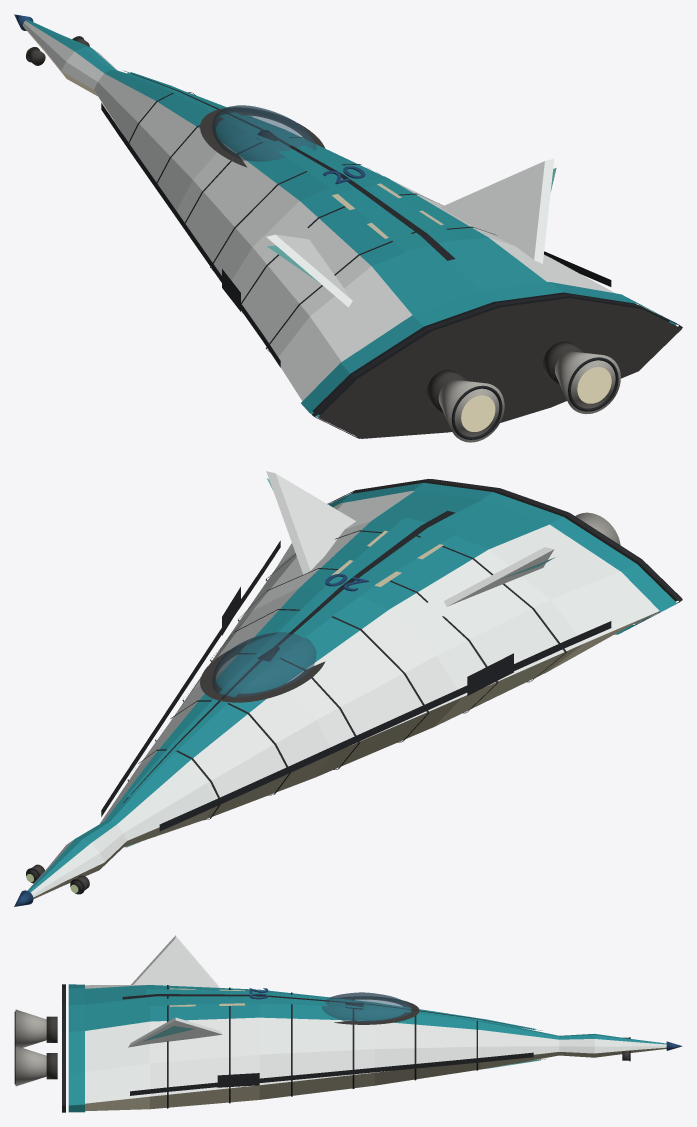
Rendered from Ship_PyramidLifter_855868.glb.
The picture shows the model from 3 angles, top to bottom: view 1: azimuth 30°, elevation 25°; view 2: azimuth 150°, elevation 25°; view 3: azimuth 270°, elevation 25°; orthographic projection. The views are drawn at different scales.
Visible parts, largest first — view 1: Fuselage_MainPyramidalLiftingBody, EngineDeck_AftFacetedDarkMountPlate, PaintDorsalSplit_PrimaryCentralArmor, TailFin_Right_ShortCantedStabilizer, EngineDeck_AftOuterArmorCollar, CanopyGlass_LowInsetSmokedDome, Nose_FacetedRamNeedle, EngineEmitter, EngineBell_LeftWide_BurnishedNozzle, EngineBell_RightWide_BurnishedNozzle, TailFin_Left_ShortCantedStabilizer, CanopyFrame_LowInsetArmoredOvalRim (+5 smaller); view 2: Fuselage_MainPyramidalLiftingBody, PaintDorsalSplit_PrimaryCentralArmor, CanopyGlass_LowInsetSmokedDome, EngineDeck_AftOuterArmorCollar, TailFin_Right_ShortCantedStabilizer, Nose_FacetedRamNeedle, SideChinePanel_Left_LongDarkArmorJoint, CanopyFrame_LowInsetArmoredOvalRim, HullLongitudinalSeam_DorsalRidgeDarkLine, TailFin_Left_ShortCantedStabilizer, SideChinePanel_Right_LongDarkArmorJoint, EngineDeck_AftDarkCompressionSeal (+2 smaller); view 3: Fuselage_MainPyramidalLiftingBody, PaintDorsalSplit_PrimaryCentralArmor, TailFin_Left_ShortCantedStabilizer, EngineDeck_AftOuterArmorCollar, CanopyGlass_LowInsetSmokedDome, SideChinePanel_Right_LongDarkArmorJoint, Nose_FacetedRamNeedle, TailFin_Right_ShortCantedStabilizer, EngineBell_RightWide_BurnishedNozzle, EngineBell_LeftWide_BurnishedNozzle, HullLongitudinalSeam_DorsalRidgeDarkLine, CanopyFrame_LowInsetArmoredOvalRim (+4 smaller).
Part boxes in pixels (bbox=[...]): Fuselage_MainPyramidalLiftingBody: bbox=[94, 70, 669, 415]; EngineDeck_AftFacetedDarkMountPlate: bbox=[318, 298, 681, 438]; PaintDorsalSplit_PrimaryCentralArmor: bbox=[127, 72, 460, 251]; TailFin_Right_ShortCantedStabilizer: bbox=[440, 158, 554, 263]; EngineDeck_AftOuterArmorCollar: bbox=[301, 282, 676, 417]; CanopyGlass_LowInsetSmokedDome: bbox=[212, 105, 316, 161]; Nose_FacetedRamNeedle: bbox=[22, 20, 117, 95]; EngineEmitter: bbox=[461, 367, 611, 431]; EngineBell_LeftWide_BurnishedNozzle: bbox=[438, 380, 504, 442]; EngineBell_RightWide_BurnishedNozzle: bbox=[555, 351, 620, 414]; TailFin_Left_ShortCantedStabilizer: bbox=[266, 234, 352, 307]; CanopyFrame_LowInsetArmoredOvalRim: bbox=[200, 108, 325, 167]; Fuselage_MainPyramidalLiftingBody: bbox=[100, 491, 659, 847]; PaintDorsalSplit_PrimaryCentralArmor: bbox=[127, 517, 460, 796]; CanopyGlass_LowInsetSmokedDome: bbox=[212, 632, 316, 697]; EngineDeck_AftOuterArmorCollar: bbox=[329, 482, 676, 634]; TailFin_Right_ShortCantedStabilizer: bbox=[266, 471, 355, 574]; Nose_FacetedRamNeedle: bbox=[27, 821, 126, 899]; SideChinePanel_Left_LongDarkArmorJoint: bbox=[159, 621, 611, 831]; CanopyFrame_LowInsetArmoredOvalRim: bbox=[200, 643, 325, 702]; HullLongitudinalSeam_DorsalRidgeDarkLine: bbox=[123, 510, 455, 802]; TailFin_Left_ShortCantedStabilizer: bbox=[444, 547, 553, 606]; SideChinePanel_Right_LongDarkArmorJoint: bbox=[101, 540, 280, 816]; EngineDeck_AftDarkCompressionSeal: bbox=[327, 479, 682, 623]; Fuselage_MainPyramidalLiftingBody: bbox=[85, 985, 559, 1111]; PaintDorsalSplit_PrimaryCentralArmor: bbox=[146, 988, 535, 1030]; TailFin_Left_ShortCantedStabilizer: bbox=[131, 935, 219, 987]; EngineDeck_AftOuterArmorCollar: bbox=[68, 984, 84, 1112]; CanopyGlass_LowInsetSmokedDome: bbox=[322, 992, 412, 1022]; SideChinePanel_Right_LongDarkArmorJoint: bbox=[130, 1052, 533, 1095]; Nose_FacetedRamNeedle: bbox=[559, 1033, 666, 1057]; TailFin_Right_ShortCantedStabilizer: bbox=[128, 1017, 222, 1047]; EngineBell_RightWide_BurnishedNozzle: bbox=[15, 1046, 46, 1086]; EngineBell_LeftWide_BurnishedNozzle: bbox=[15, 1009, 46, 1047]; HullLongitudinalSeam_DorsalRidgeDarkLine: bbox=[122, 994, 542, 1030]; CanopyFrame_LowInsetArmoredOvalRim: bbox=[334, 997, 419, 1024].
Size of the model in its own units: 3.12 by 1.43 by 7.67.
